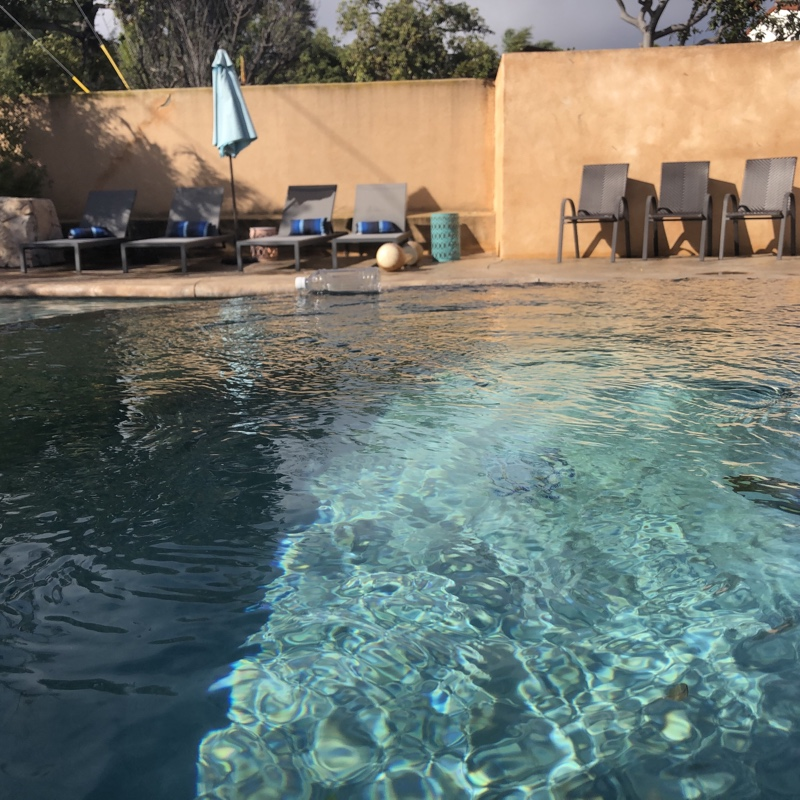Plastic Bottle: (291, 265, 382, 295)
